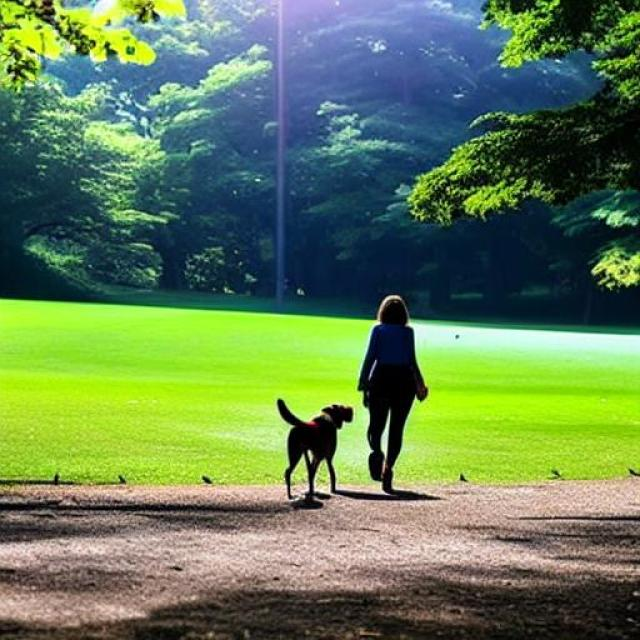Unleashed_Dog: (275, 384, 415, 500)
